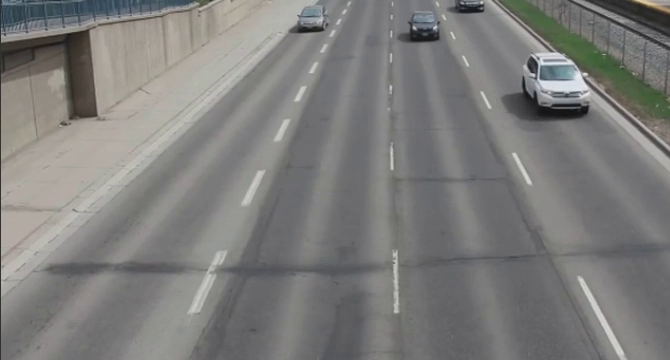car: (519, 50, 597, 120), (404, 10, 444, 42), (296, 3, 330, 32), (454, 1, 488, 15)
